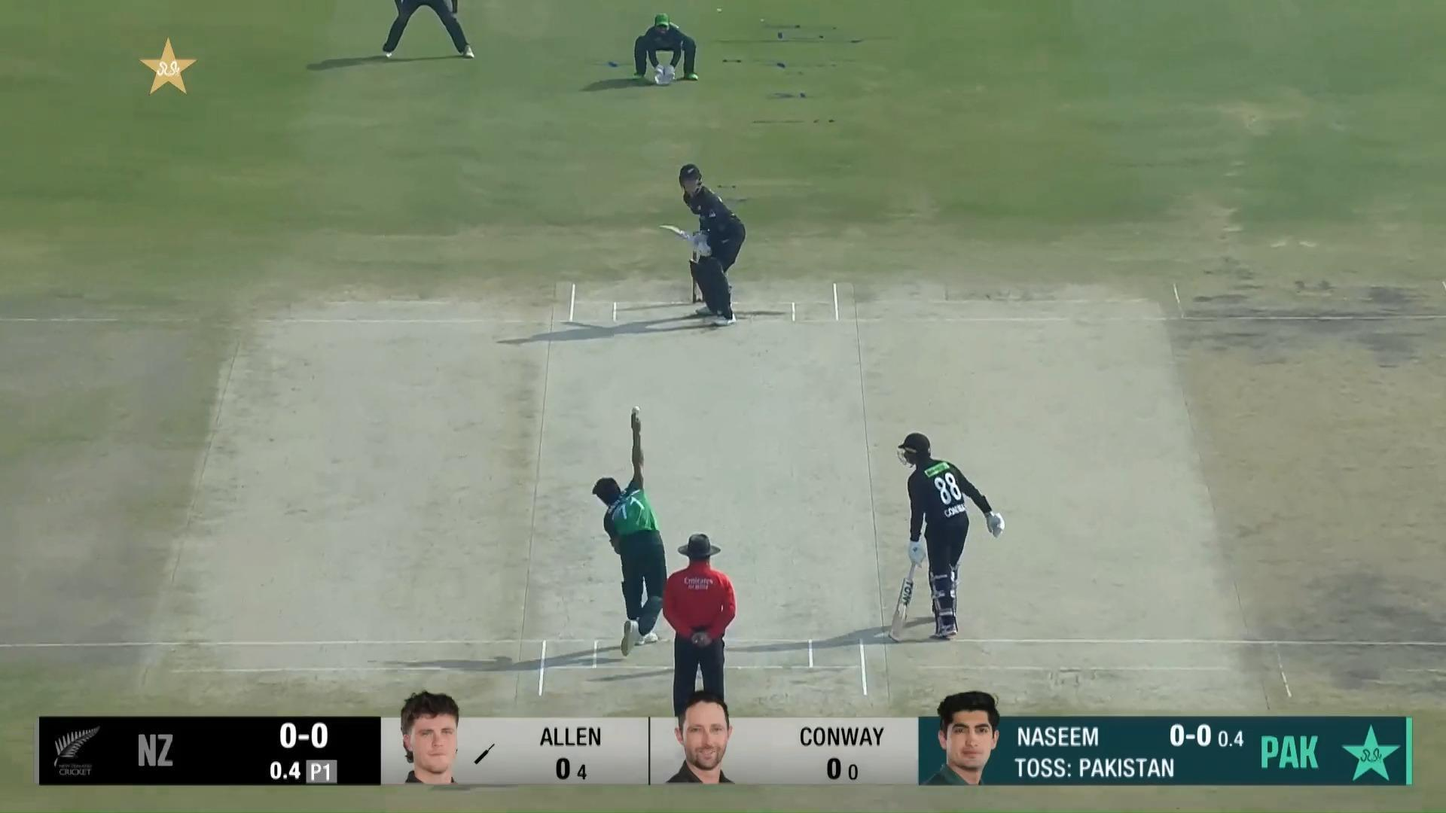BM 1: (658, 163, 746, 327)
BO: (592, 402, 669, 656)
